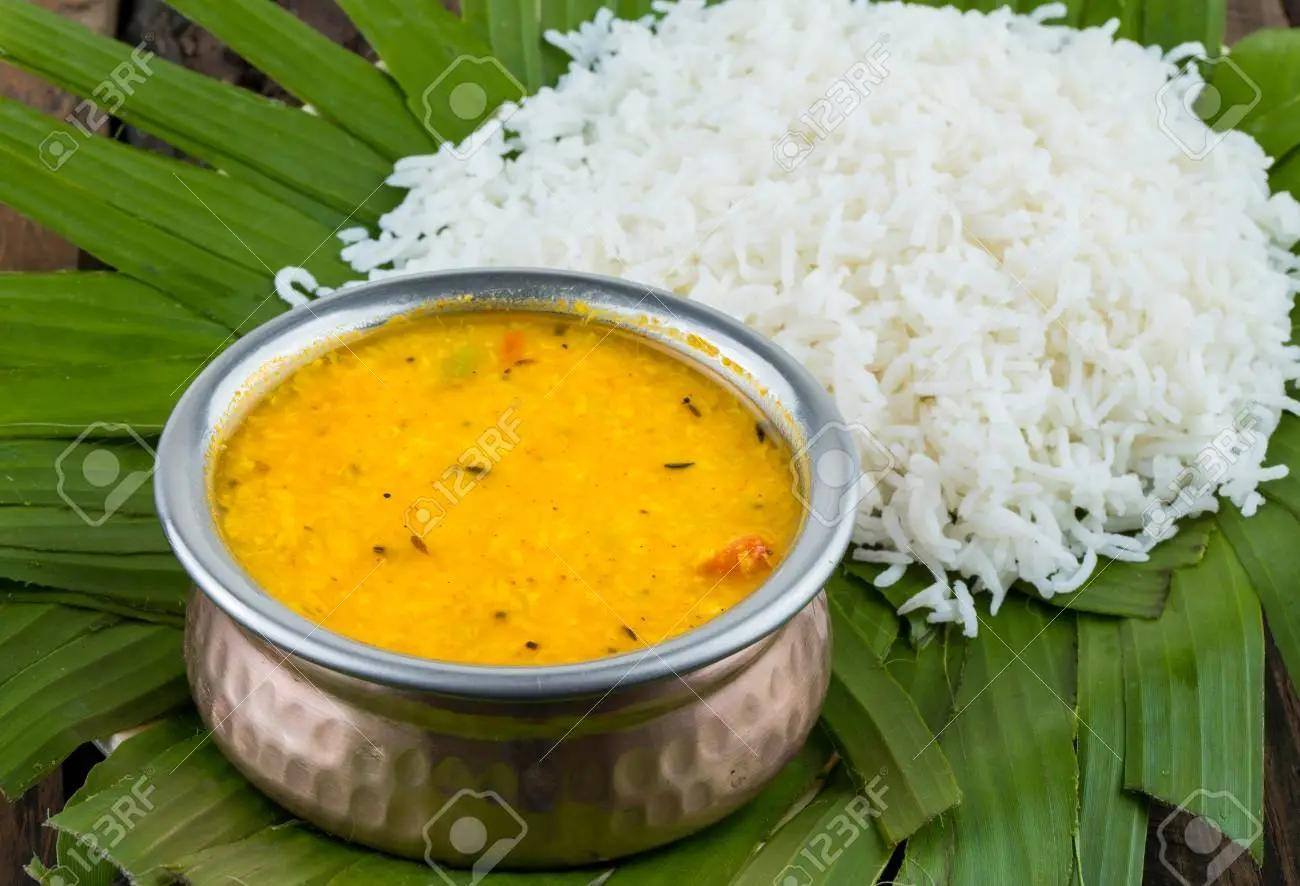dal: (219, 305, 804, 680)
rice: (361, 0, 1295, 266), (844, 268, 1289, 572)
